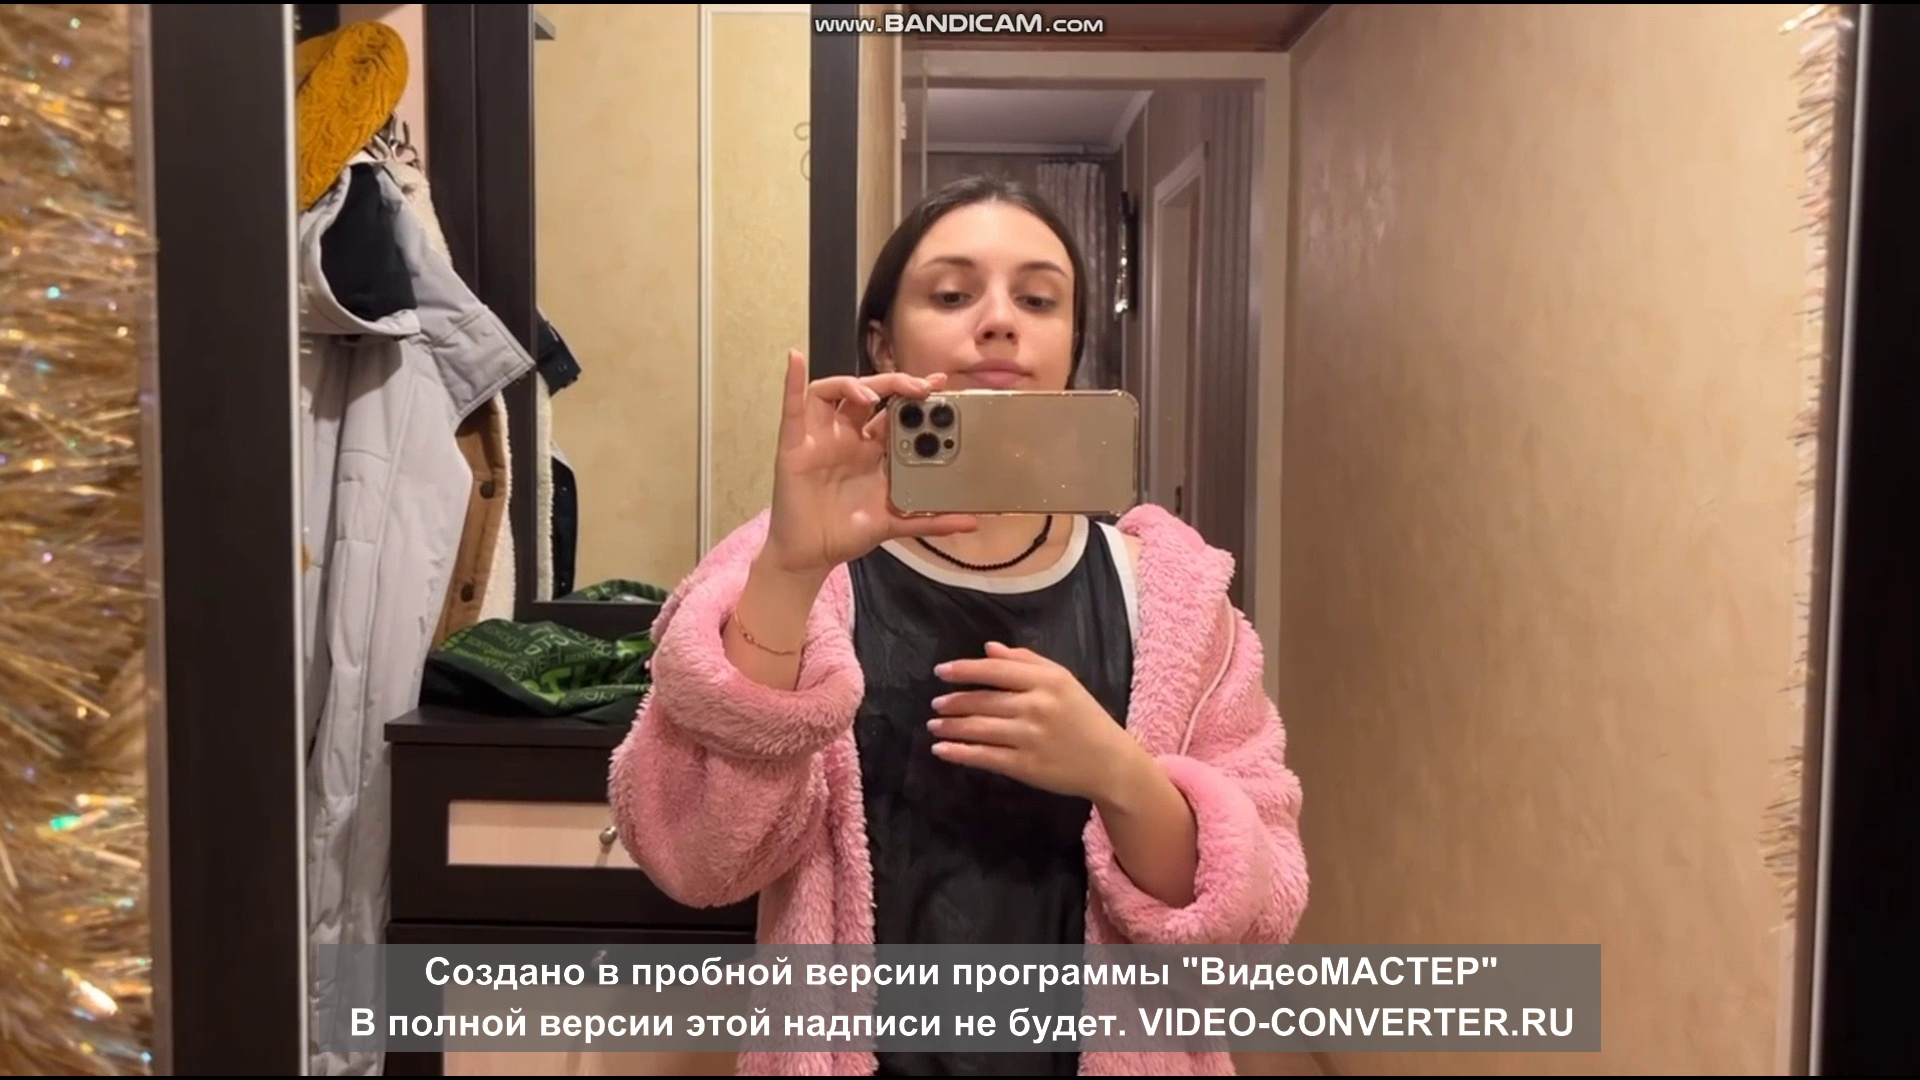Кисть: (928, 638, 1125, 802)
